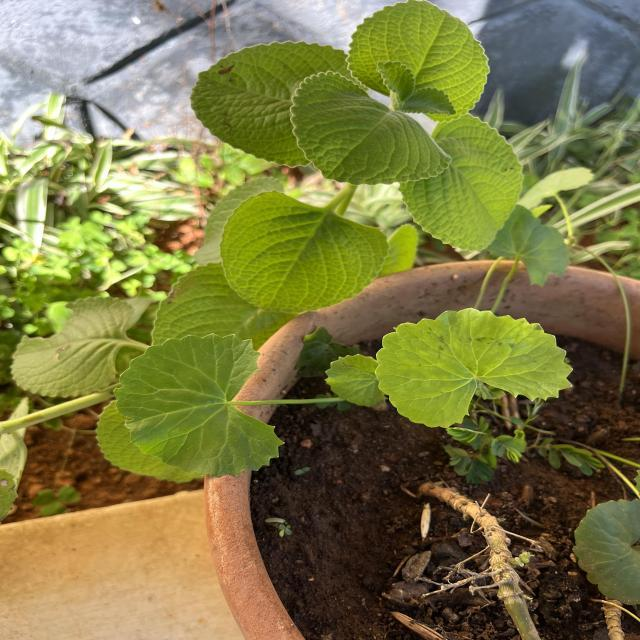Centella asiatica: (371, 304, 577, 432), (112, 331, 288, 480)
